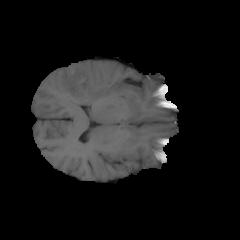glioma: (56, 64, 114, 109)
